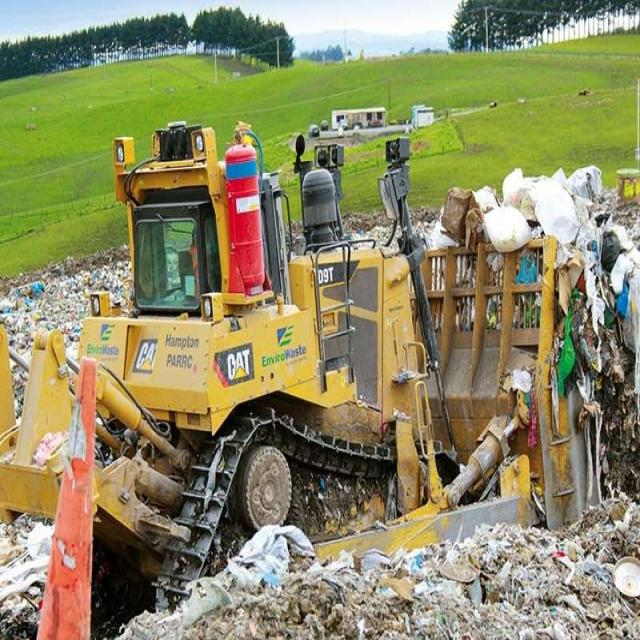Bulldozer: (21, 108, 603, 562)
